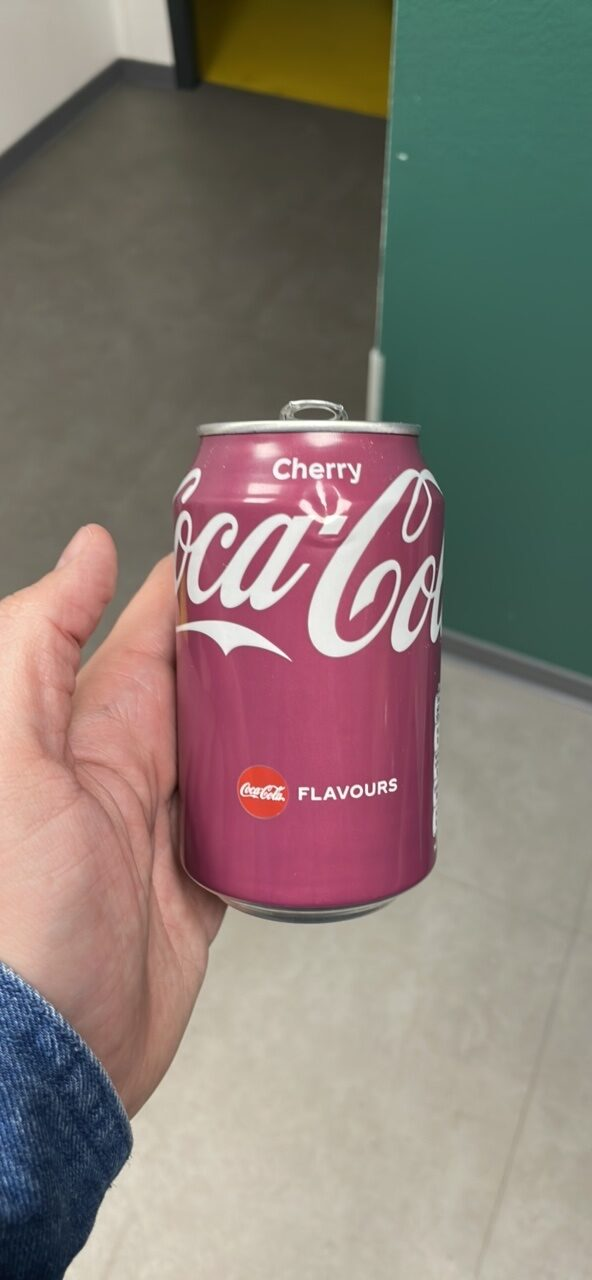Cherry Coca-Cola: (30, 64, 562, 1216)
